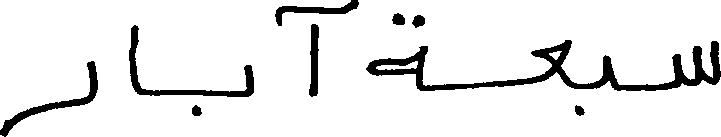ا: (305, 4, 318, 96), (126, 23, 140, 96)
ب: (189, 62, 255, 118), (574, 52, 615, 114)
ة: (367, 10, 427, 91)
ر: (0, 59, 99, 136)
س: (670, 38, 718, 89)
ع: (528, 38, 571, 89)
